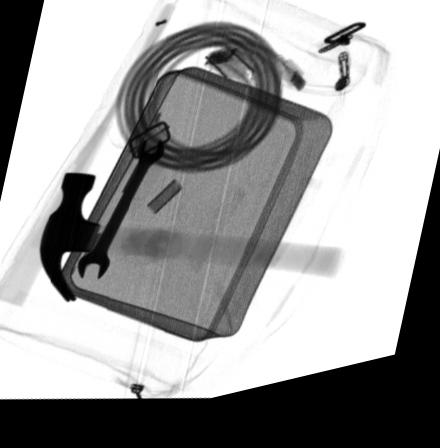Hammer: (38, 175, 342, 306)
Wrench: (73, 144, 162, 286)
